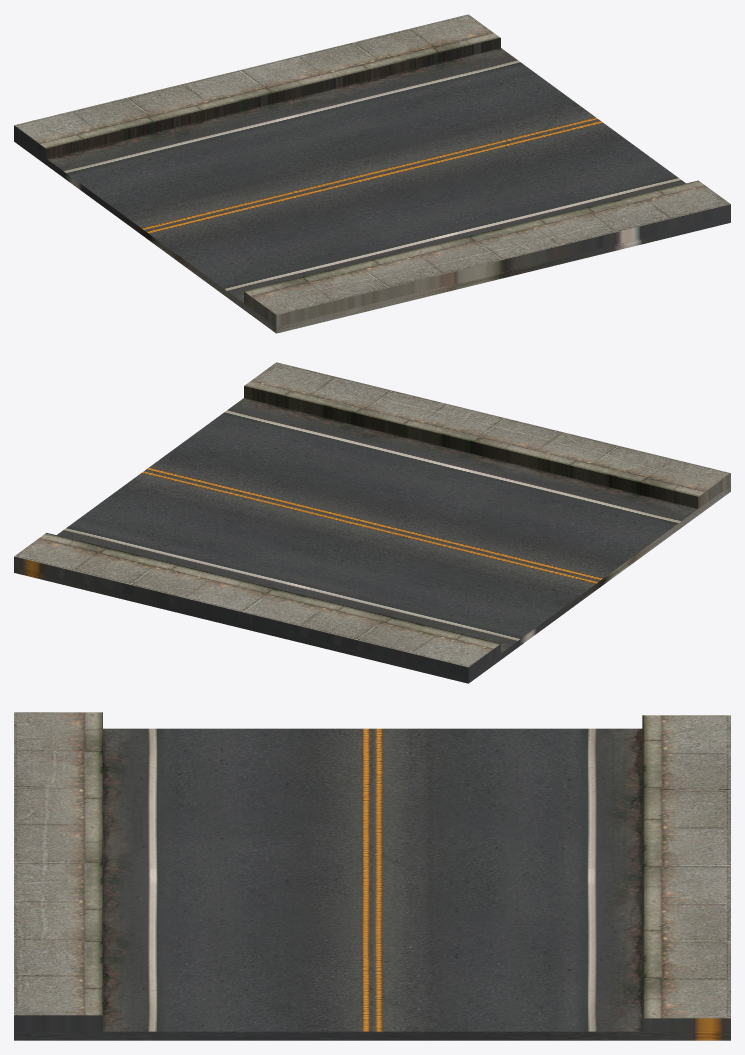
Rendered from road.obj.
3 renders of one model, top to bottom at view 1: azimuth 30°, elevation 25°; view 2: azimuth 150°, elevation 25°; view 3: azimuth 270°, elevation 25°, orthographic. The views are drawn at different scales.
Parts seen in each view (by area): view 1: Cube_Cube.001; view 2: Cube_Cube.001; view 3: Cube_Cube.001.
Boxes of the visible parts, x1,y1,x2,y2 form: Cube_Cube.001: [14, 14, 730, 333]; Cube_Cube.001: [14, 362, 730, 683]; Cube_Cube.001: [14, 712, 730, 1040].
Size of the model in its own units: 14.13 by 0.5491 by 14.13.
Materials: 1 (1 with a texture image).
